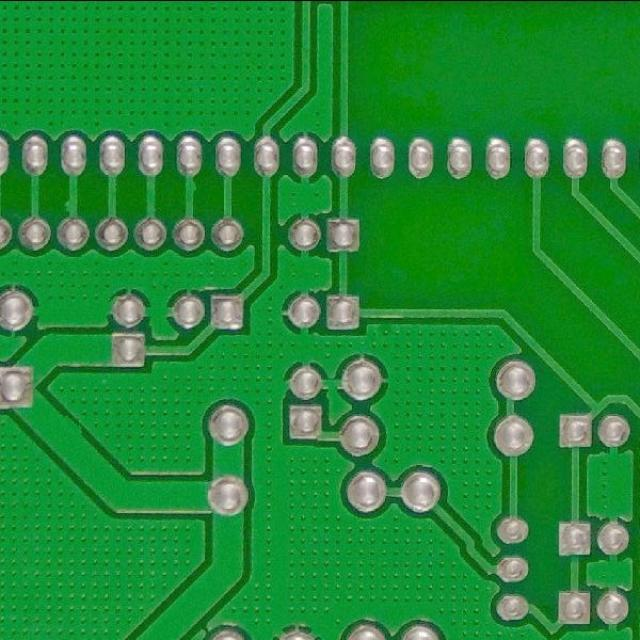Spur: (42, 410, 90, 460), (60, 194, 82, 217), (180, 177, 202, 196)
